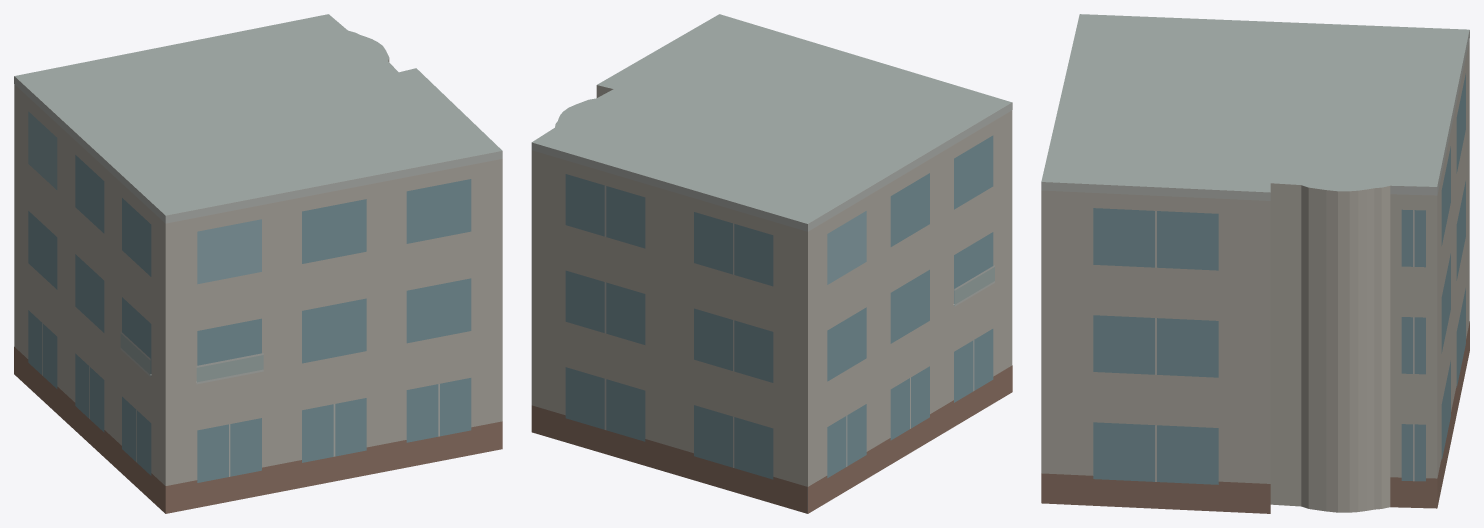
Rendered from survey-upis-32566384.glb.
The picture shows the model from 3 angles, left to right: view 1: azimuth 30°, elevation 25°; view 2: azimuth 150°, elevation 25°; view 3: azimuth 270°, elevation 25°; orthographic projection. The views are drawn at different scales.
Visible parts, largest first — view 1: survey-upis-32566384.tmp; view 2: survey-upis-32566384.tmp; view 3: survey-upis-32566384.tmp.
Part boxes in pixels (<box>): survey-upis-32566384.tmp: <box>14,14,502,513</box>; survey-upis-32566384.tmp: <box>531,14,1012,513</box>; survey-upis-32566384.tmp: <box>1041,14,1469,513</box>.
Bounding box in the file's own units: 10.9 × 9.15 × 11.07.
